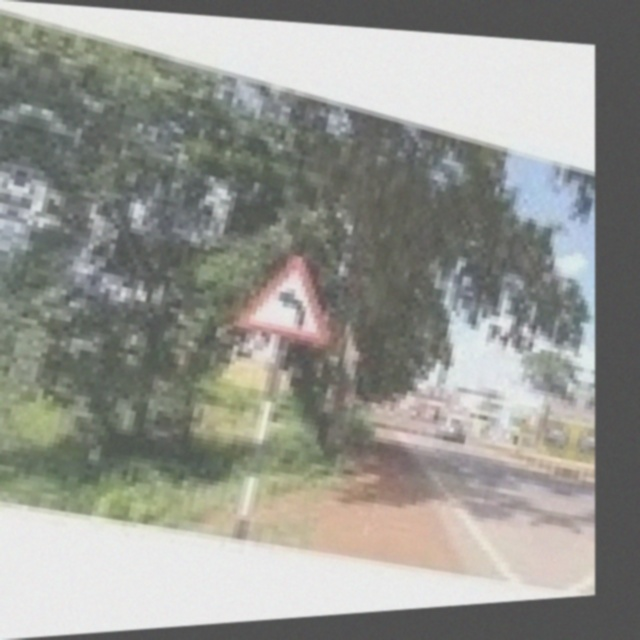Left_Hand_Curve: (233, 242, 344, 353)
